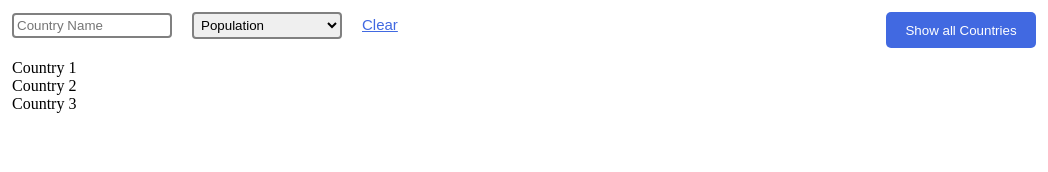
Test: FilterTable › filters the data by population correctly
Step 1. Select "< 5 M" in the dropdown → (267, 26), box [192, 12, 342, 39]
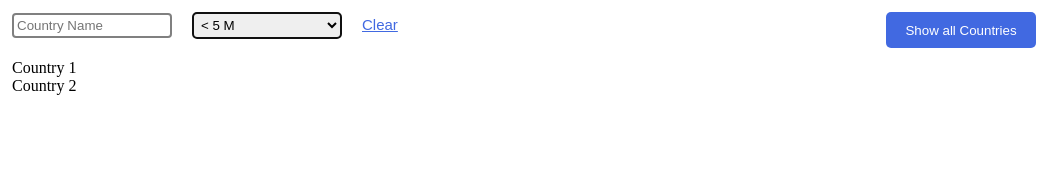
Check: the list item "Country 1" is shown, box [12, 59, 76, 76]
Check: the list item "Country 3" is gone
